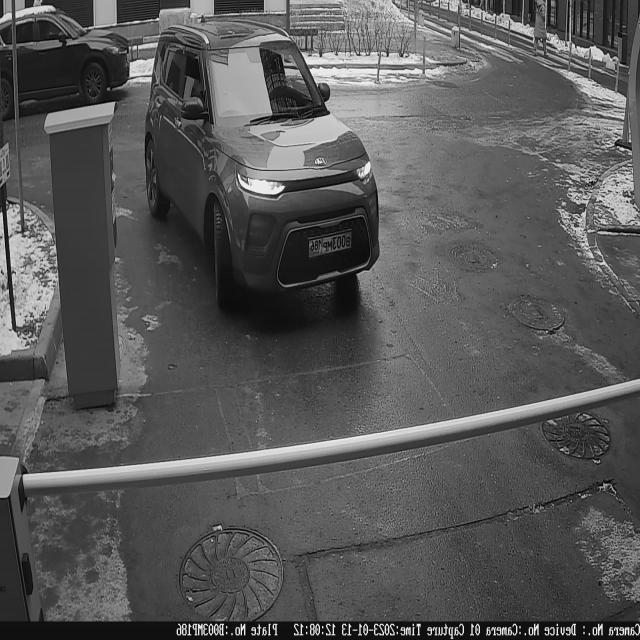car-plate-numbers: (309, 228, 353, 259)
